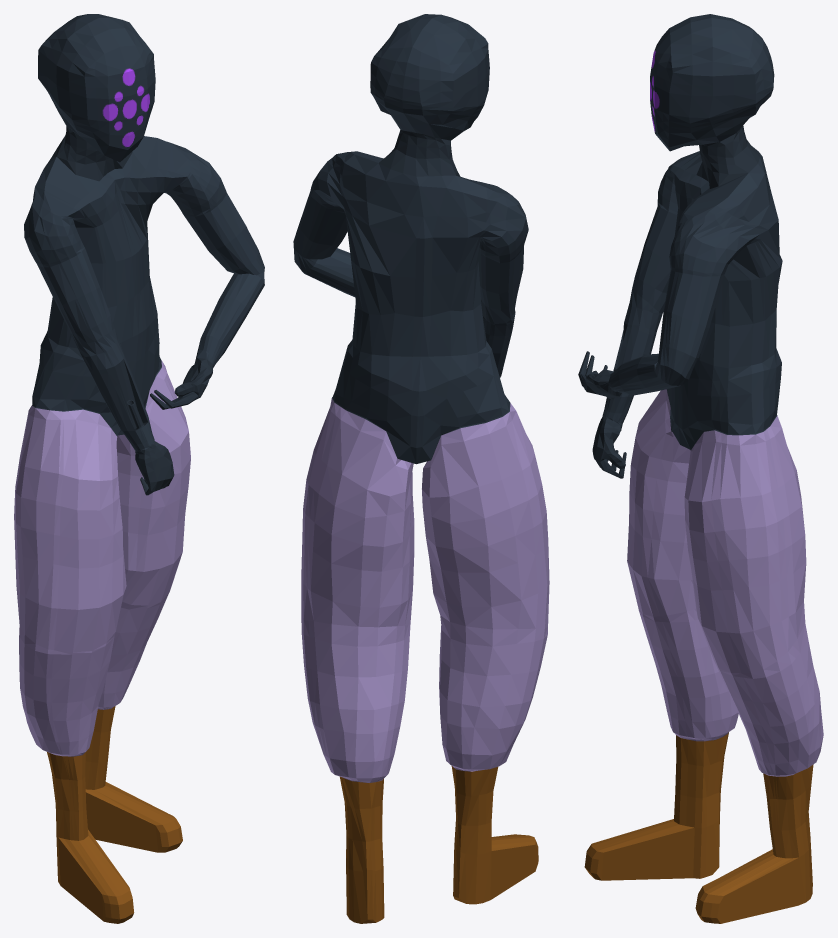
Rendered from Oracle_Reload_000010.obj.
3 renders of one model, left to right at view 1: azimuth 30°, elevation 25°; view 2: azimuth 150°, elevation 25°; view 3: azimuth 270°, elevation 25°, orthographic. The views are drawn at different scales.
Visible parts, largest first — view 1: Cube; view 2: Cube; view 3: Cube.
Boxes of the visible parts, x1,y1,x2,y2 form: Cube: (14, 14, 264, 923); Cube: (293, 14, 549, 923); Cube: (578, 14, 823, 923).
Size of the model in its own units: 1.16 by 3.94 by 1.
